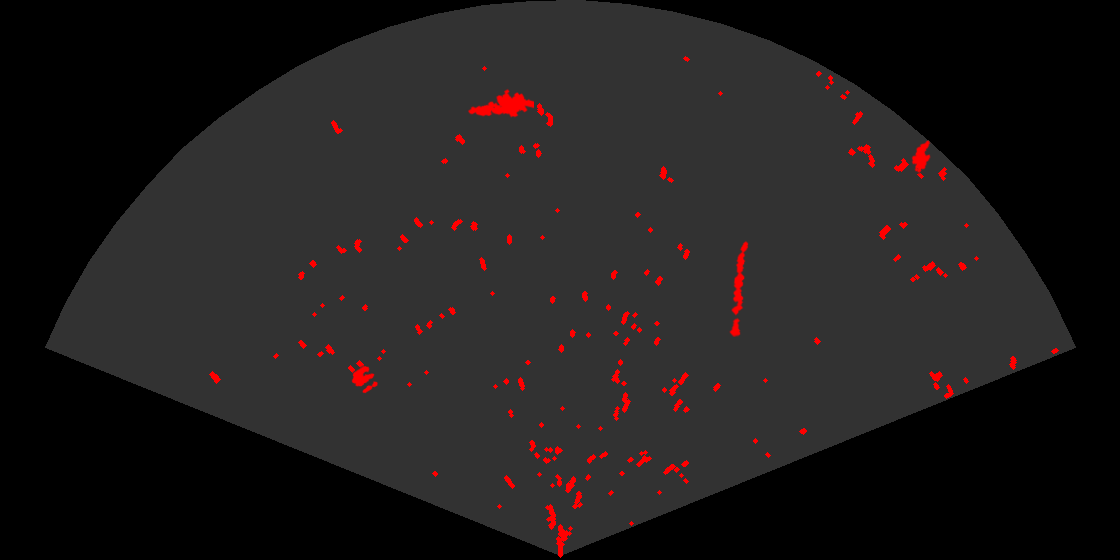AUV: (910, 139, 932, 175)
ball: (350, 364, 379, 395)
chain: (728, 240, 750, 337)
frogman: (466, 87, 534, 119)
